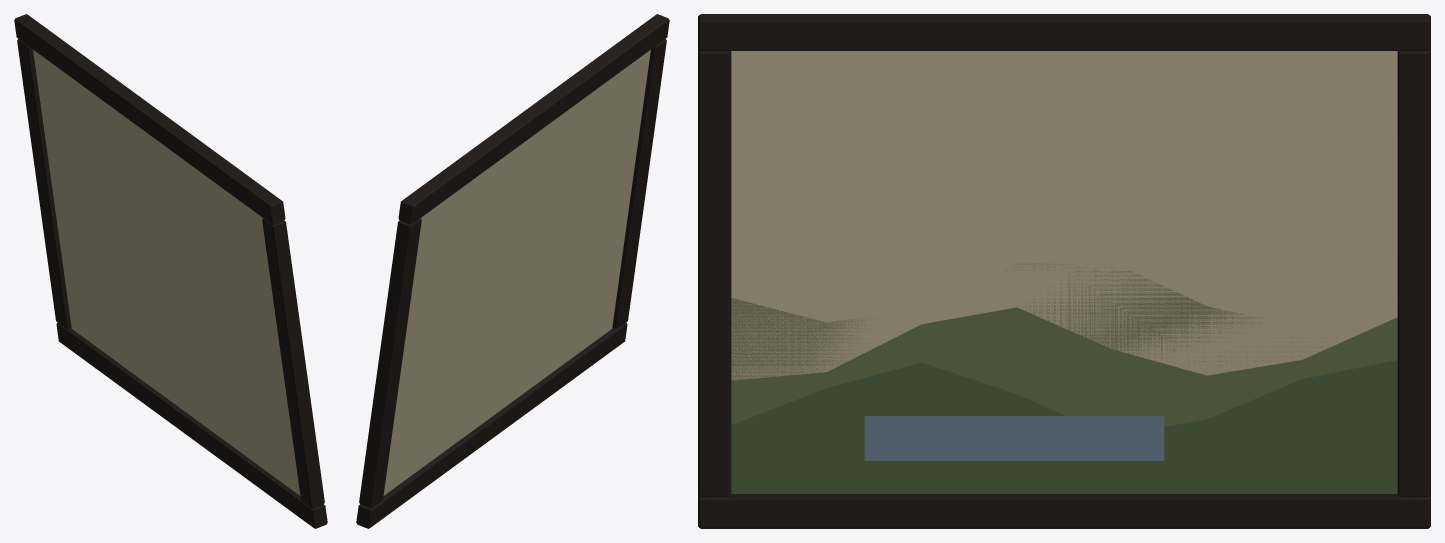
Rendered from painting_lean_a.glb.
3 renders of one model, left to right at view 1: azimuth 30°, elevation 25°; view 2: azimuth 150°, elevation 25°; view 3: azimuth 270°, elevation 25°, orthographic. The views are drawn at different scales.
Parts seen in each view (by area): view 1: himmel, rahmen_o, rahmen_r, rahmen_u, rahmen_l; view 2: himmel, rahmen_o, rahmen_l, rahmen_u, rahmen_r; view 3: himmel, huegel2, huegel1, rahmen_o, rahmen_u, huegel0, rahmen_l, rahmen_r, see.
Boxes of the visible parts, x1=… form: himmel: x1=33, y1=50, x2=300, y2=495; rahmen_o: x1=14, y1=14, x2=285, y2=224; rahmen_r: x1=262, y1=218, x2=324, y2=508; rahmen_u: x1=56, y1=322, x2=327, y2=528; rahmen_l: x1=17, y1=39, x2=71, y2=329; himmel: x1=383, y1=50, x2=650, y2=495; rahmen_o: x1=398, y1=14, x2=669, y2=224; rahmen_l: x1=359, y1=218, x2=421, y2=508; rahmen_u: x1=356, y1=322, x2=627, y2=528; rahmen_r: x1=612, y1=39, x2=666, y2=329; himmel: x1=731, y1=51, x2=1397, y2=380; huegel2: x1=731, y1=360, x2=1397, y2=493; huegel1: x1=731, y1=307, x2=1397, y2=426; rahmen_o: x1=698, y1=14, x2=1430, y2=50; rahmen_u: x1=698, y1=494, x2=1430, y2=528; huegel0: x1=731, y1=263, x2=1347, y2=380; rahmen_l: x1=1397, y1=49, x2=1430, y2=496; rahmen_r: x1=698, y1=49, x2=731, y2=496; see: x1=864, y1=416, x2=1164, y2=460.
Bounding box in the file's own units: 0.1449 × 0.796 × 1.1.
